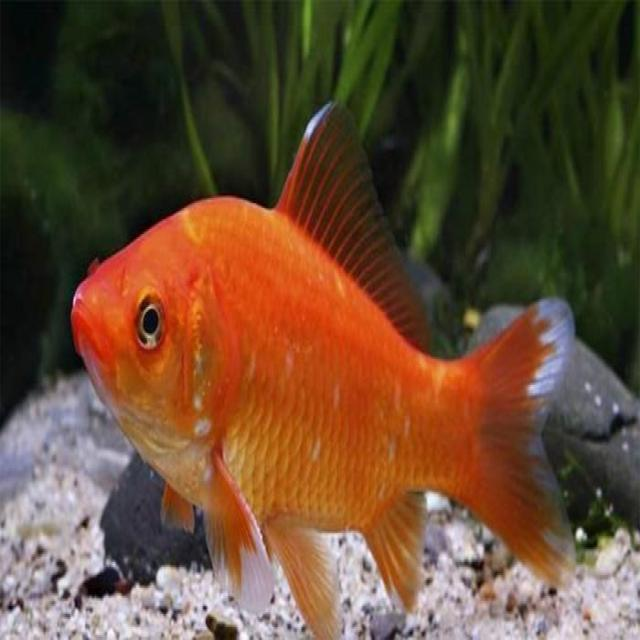GoldFish: (66, 97, 578, 640)
